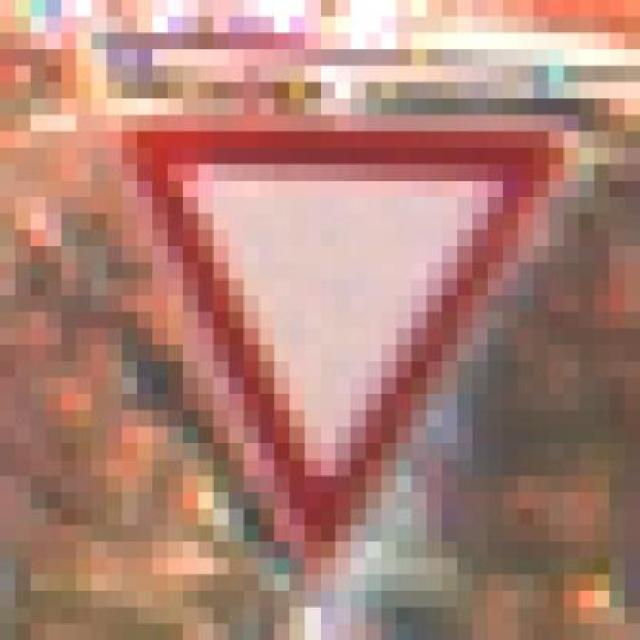Give Way: (107, 115, 564, 574)
